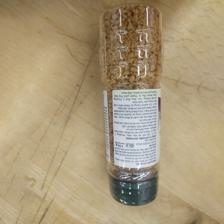TayNinh_green: (98, 3, 162, 208)
